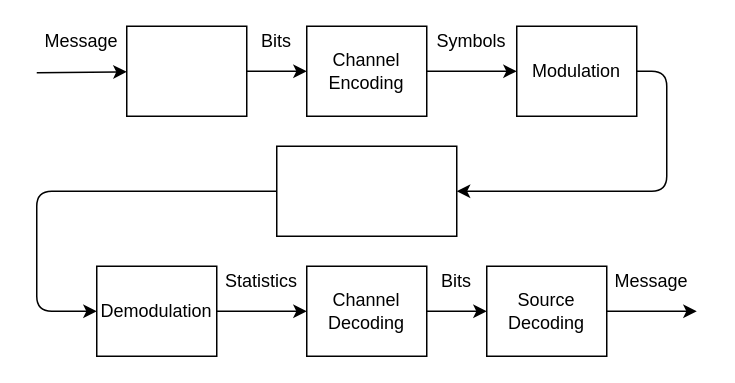
Image size: 735x383. Some labels were removed from this diagram. The centre of each missing label's shape, as x and y in pixels:
Noisy Communication Channel: (366,190)
Source Encoding: (186,70)
